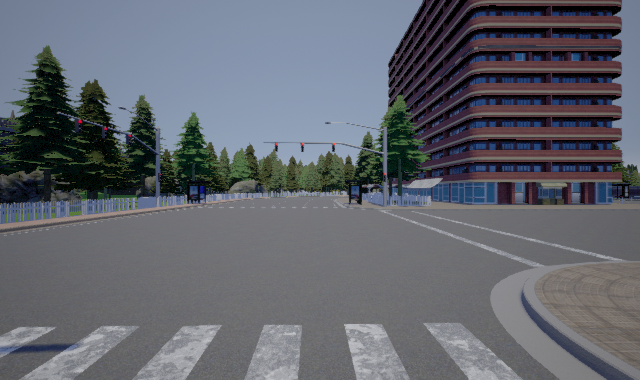traffic_light: (75, 119, 83, 133), (102, 126, 108, 139), (126, 134, 132, 145), (158, 173, 162, 182), (275, 142, 278, 152), (383, 173, 386, 182), (332, 143, 335, 152), (301, 143, 304, 152)
